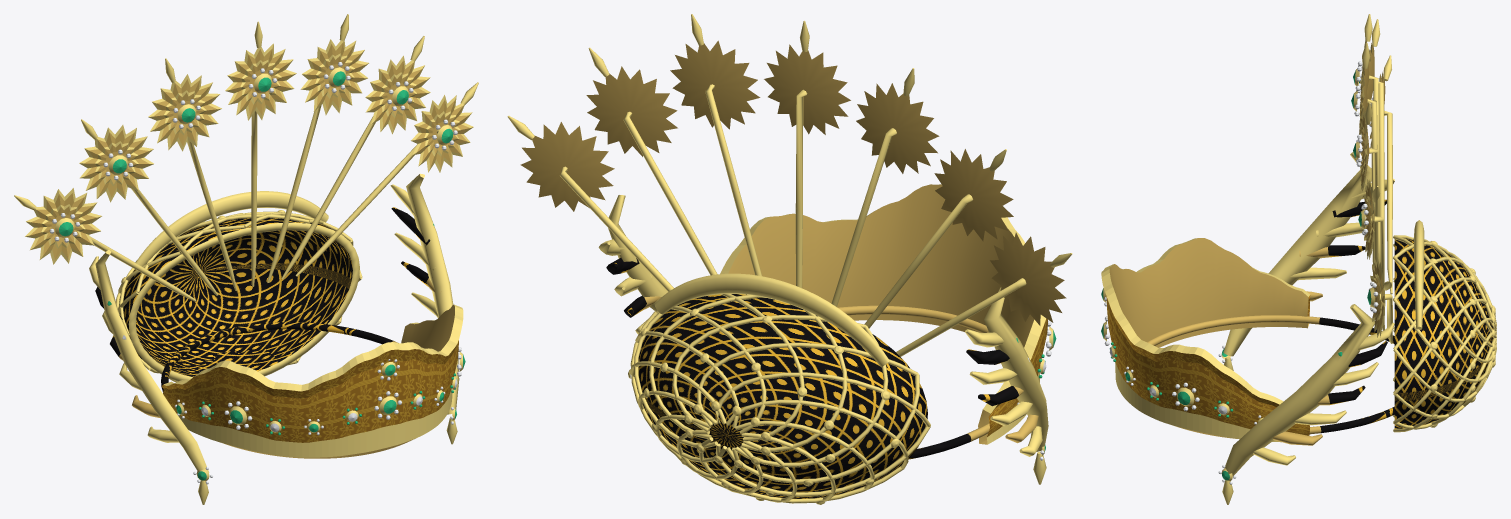
The model's file is 07_Jawa_Bridal_Headdress.fbx.
3 views of the same model, side by side, from view 1: azimuth 30°, elevation 25°; view 2: azimuth 150°, elevation 25°; view 3: azimuth 270°, elevation 25° (orthographic). The views are drawn at different scales.
Visible parts, largest first — view 1: Javanese_Bridal_Headdress; view 2: Javanese_Bridal_Headdress; view 3: Javanese_Bridal_Headdress.
Boxes of the visible parts, left/top/right/bottom form: Javanese_Bridal_Headdress: left=14, top=14, right=478, bottom=504; Javanese_Bridal_Headdress: left=507, top=14, right=1072, bottom=504; Javanese_Bridal_Headdress: left=1101, top=14, right=1496, bottom=504.
Bounding box in the file's own units: 227 × 187 × 167.
